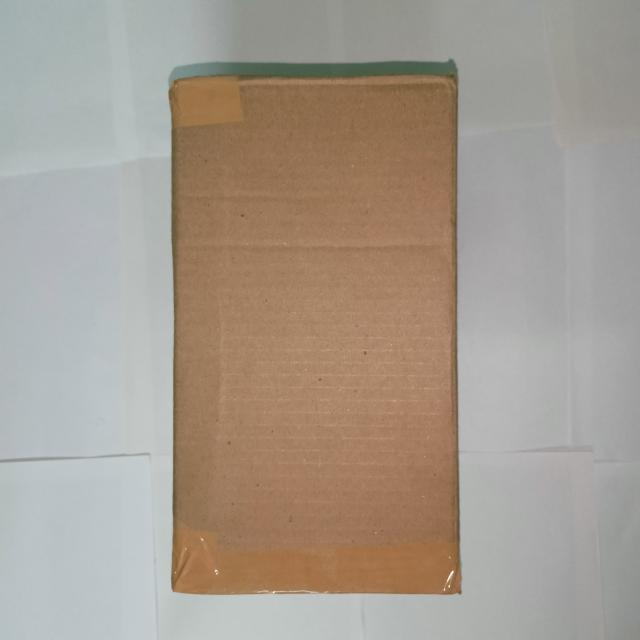box: (169, 83, 461, 593)
